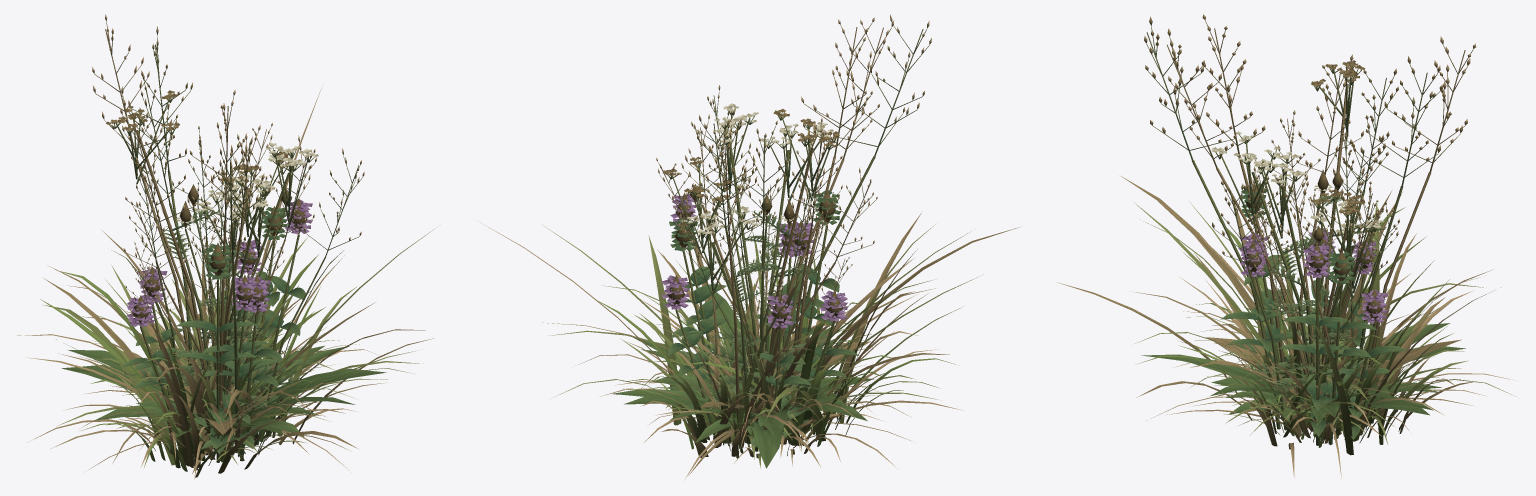
File: Lowmark_Natural_Grass_Wildflowers.glb
The picture shows the model from 3 angles, left to right: view 1: azimuth 30°, elevation 25°; view 2: azimuth 150°, elevation 25°; view 3: azimuth 270°, elevation 25°; orthographic projection. The views are drawn at different scales.
Visible parts, largest first — view 1: LM_Mixed_Verge_Late_LOD0, LM_Meadow_Seed_Late_LOD0, LM_Mixed_Verge_Young_LOD0, LM_Selfheal_Established_LOD0, LM_Meadow_Seed_Established_LOD0, LM_Mixed_Verge_Established_LOD0, LM_Wayside_Yarrow_Late_LOD0, LM_Selfheal_Late_LOD0, LM_Selfheal_Young_LOD0, LM_Meadow_Seed_Young_LOD0, LM_Ribbed_Rosette_Late_LOD0, LM_Wayside_Yarrow_Established_LOD0 (+8 smaller); view 2: LM_Mixed_Verge_Late_LOD0, LM_Mixed_Verge_Established_LOD0, LM_Meadow_Seed_Late_LOD0, LM_Selfheal_Late_LOD0, LM_Wayside_Yarrow_Late_LOD0, LM_Mixed_Verge_Young_LOD0, LM_Meadow_Seed_Young_LOD0, LM_Meadow_Seed_Established_LOD0, LM_Wayside_Yarrow_Established_LOD0, LM_Selfheal_Established_LOD0, LM_Selfheal_Young_LOD0, LM_Ribbed_Rosette_Late_LOD0 (+9 smaller); view 3: LM_Mixed_Verge_Late_LOD0, LM_Meadow_Seed_Late_LOD0, LM_Mixed_Verge_Established_LOD0, LM_Selfheal_Established_LOD0, LM_Meadow_Seed_Established_LOD0, LM_Wayside_Yarrow_Late_LOD0, LM_Wayside_Yarrow_Established_LOD0, LM_Ribbed_Rosette_Late_LOD0, LM_Meadow_Seed_Young_LOD0, LM_Selfheal_Late_LOD0, LM_Selfheal_Young_LOD0, LM_Mixed_Verge_Young_LOD0 (+9 smaller).
Part boxes in pixels (x1,y1,x2,y2): LM_Mixed_Verge_Late_LOD0: (17, 88, 425, 473); LM_Meadow_Seed_Late_LOD0: (66, 14, 344, 470); LM_Mixed_Verge_Young_LOD0: (40, 229, 433, 471); LM_Selfheal_Established_LOD0: (135, 199, 312, 461); LM_Meadow_Seed_Established_LOD0: (79, 26, 432, 461); LM_Mixed_Verge_Established_LOD0: (49, 126, 354, 468); LM_Wayside_Yarrow_Late_LOD0: (106, 90, 290, 390); LM_Selfheal_Late_LOD0: (122, 239, 281, 449); LM_Selfheal_Young_LOD0: (175, 206, 301, 462); LM_Meadow_Seed_Young_LOD0: (96, 72, 415, 453); LM_Ribbed_Rosette_Late_LOD0: (67, 184, 386, 434); LM_Wayside_Yarrow_Established_LOD0: (186, 174, 292, 407); LM_Mixed_Verge_Late_LOD0: (480, 19, 1019, 444); LM_Mixed_Verge_Established_LOD0: (626, 159, 983, 457); LM_Meadow_Seed_Late_LOD0: (542, 17, 935, 456); LM_Selfheal_Late_LOD0: (661, 220, 858, 437); LM_Wayside_Yarrow_Late_LOD0: (663, 109, 849, 393); LM_Mixed_Verge_Young_LOD0: (543, 225, 963, 459); LM_Meadow_Seed_Young_LOD0: (675, 14, 931, 451); LM_Meadow_Seed_Established_LOD0: (549, 85, 864, 453); LM_Wayside_Yarrow_Established_LOD0: (681, 122, 833, 402); LM_Selfheal_Established_LOD0: (670, 192, 811, 449); LM_Selfheal_Young_LOD0: (661, 189, 841, 415); LM_Ribbed_Rosette_Late_LOD0: (612, 184, 870, 438); LM_Mixed_Verge_Late_LOD0: (1057, 28, 1500, 439); LM_Meadow_Seed_Late_LOD0: (1132, 14, 1475, 422); LM_Mixed_Verge_Established_LOD0: (1134, 139, 1473, 455); LM_Selfheal_Established_LOD0: (1220, 241, 1402, 445); LM_Meadow_Seed_Established_LOD0: (1211, 56, 1442, 446); LM_Wayside_Yarrow_Late_LOD0: (1258, 60, 1386, 395); LM_Wayside_Yarrow_Established_LOD0: (1211, 131, 1384, 396); LM_Ribbed_Rosette_Late_LOD0: (1141, 170, 1461, 417); LM_Meadow_Seed_Young_LOD0: (1138, 16, 1447, 435); LM_Selfheal_Late_LOD0: (1240, 228, 1407, 439); LM_Selfheal_Young_LOD0: (1235, 182, 1377, 445); LM_Mixed_Verge_Young_LOD0: (1183, 218, 1515, 443).
Size of what is drawn, in the model's own units: 0.512 by 0.4695 by 0.5144.
2 materials, 2 textured.
